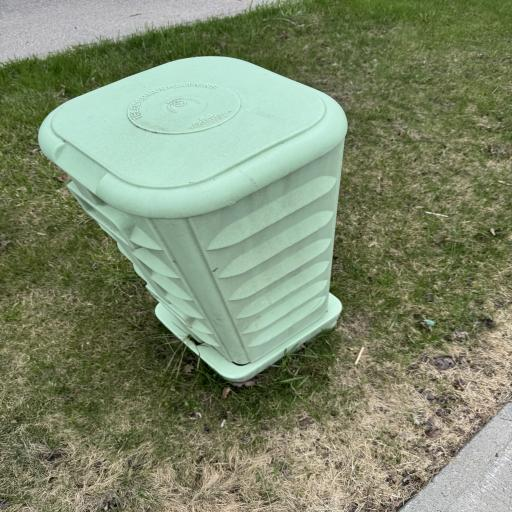Electrical Box: (38, 56, 349, 382)
